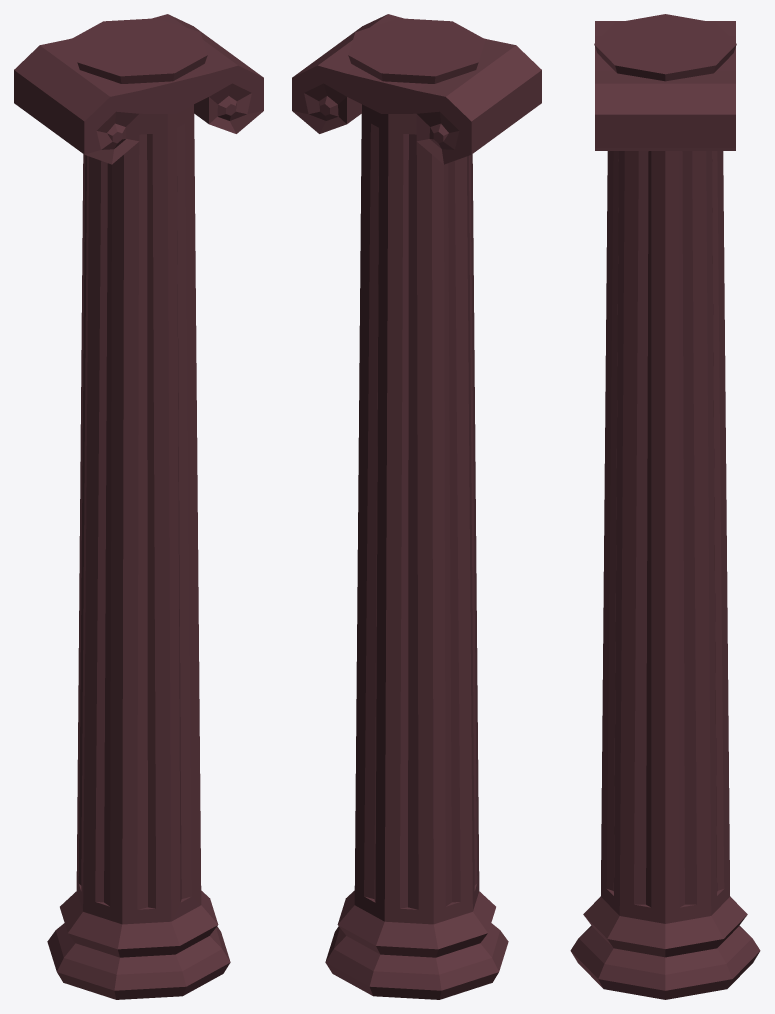
The model's file is empire-pillar-ionic-big-empire.glb.
The picture shows the model from 3 angles, left to right: view 1: azimuth 30°, elevation 25°; view 2: azimuth 150°, elevation 25°; view 3: azimuth 270°, elevation 25°; orthographic projection.
Parts seen in each view (by area): view 1: SM_Pillar_Ionic_Big_Empire; view 2: SM_Pillar_Ionic_Big_Empire; view 3: SM_Pillar_Ionic_Big_Empire.
Boxes of the visible parts, bbox=[...] form: SM_Pillar_Ionic_Big_Empire: bbox=[14, 14, 263, 999]; SM_Pillar_Ionic_Big_Empire: bbox=[292, 14, 541, 999]; SM_Pillar_Ionic_Big_Empire: bbox=[570, 14, 760, 999].
Size of the model in its own units: 2.05 by 10.01 by 1.88.
